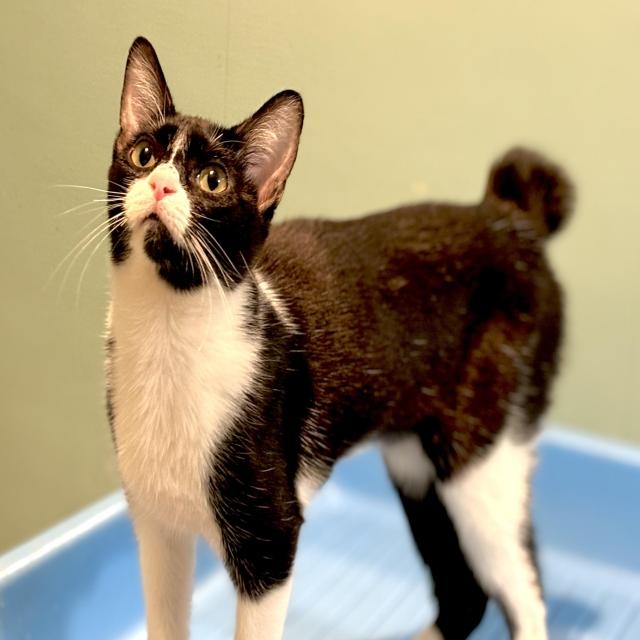American Bobtail: (99, 31, 581, 640)
